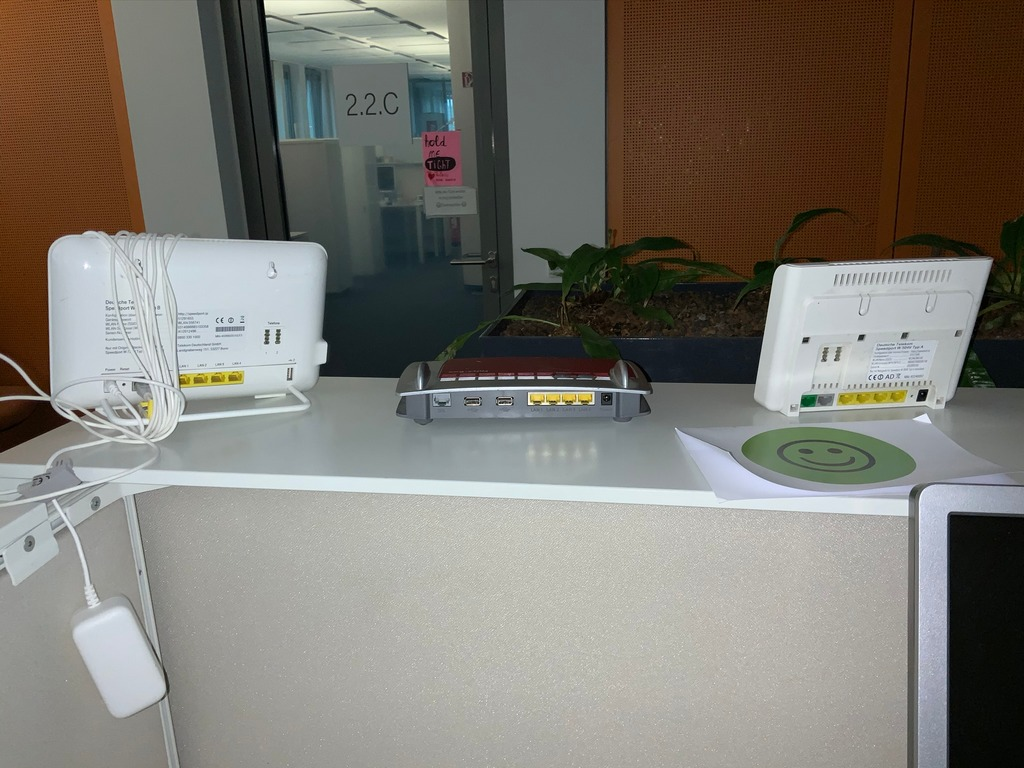Router2: (755, 258, 993, 424)
router: (49, 232, 331, 433)
router3: (397, 351, 656, 428)
